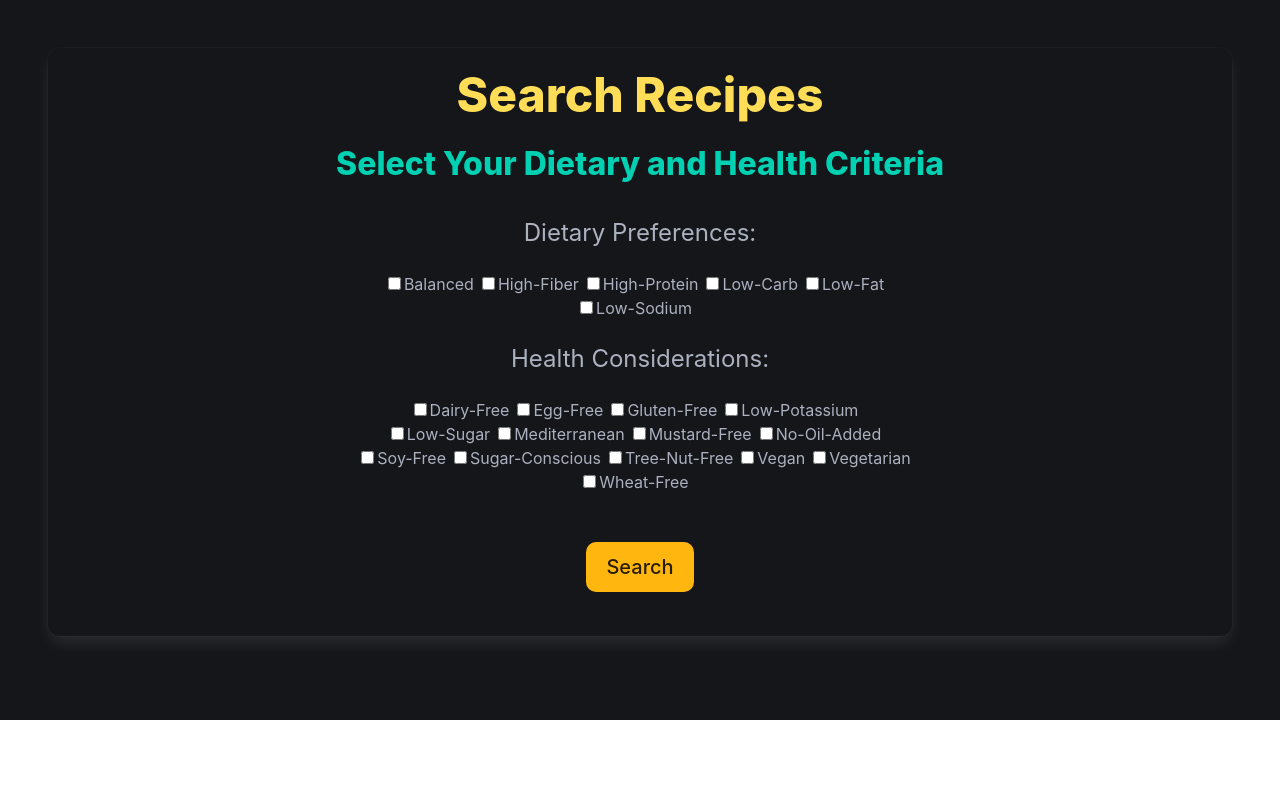
DietarySelection Component › displays error message when provided
# Simulate setting an error message by clicking the Search button
Click the button "Search": [640, 567] box [586,542,694,592]
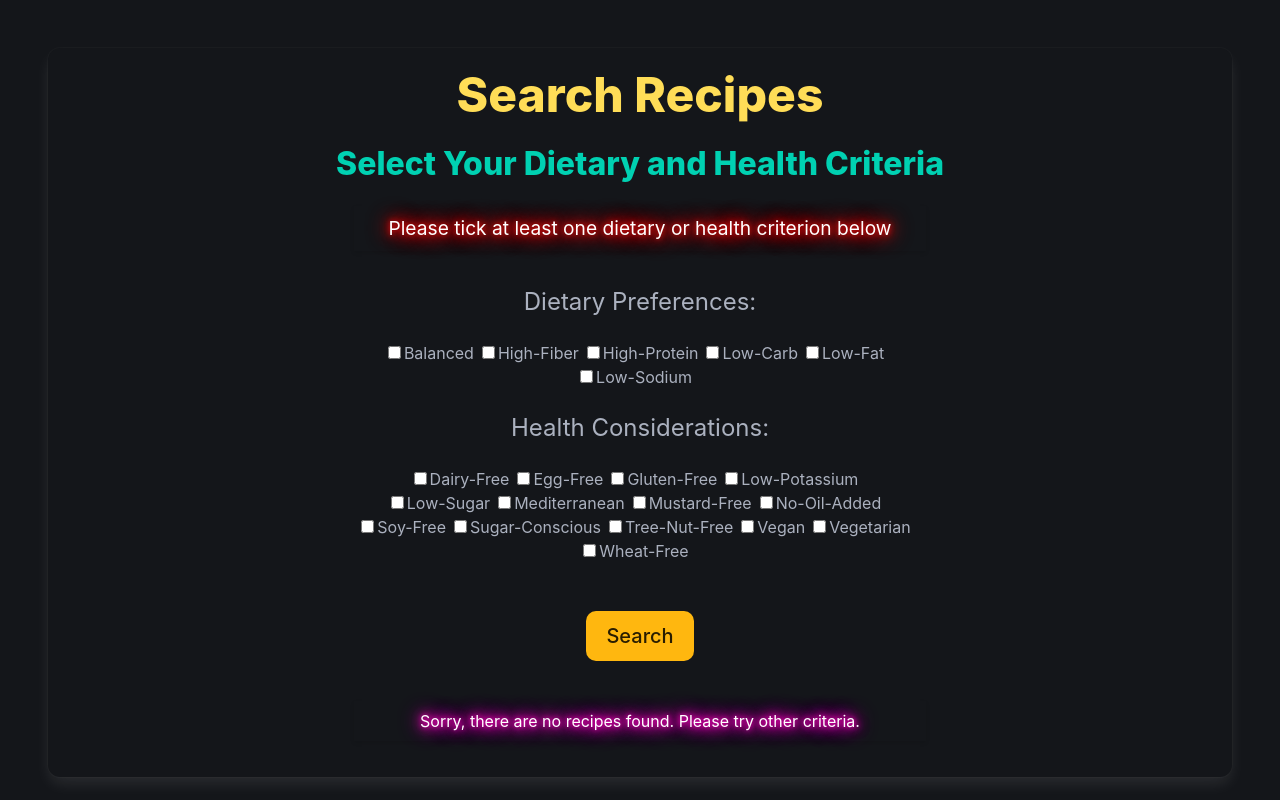
Expected: the text "Please tick at least one dietary or health criterion below" is shown, [354,206,926,251]
